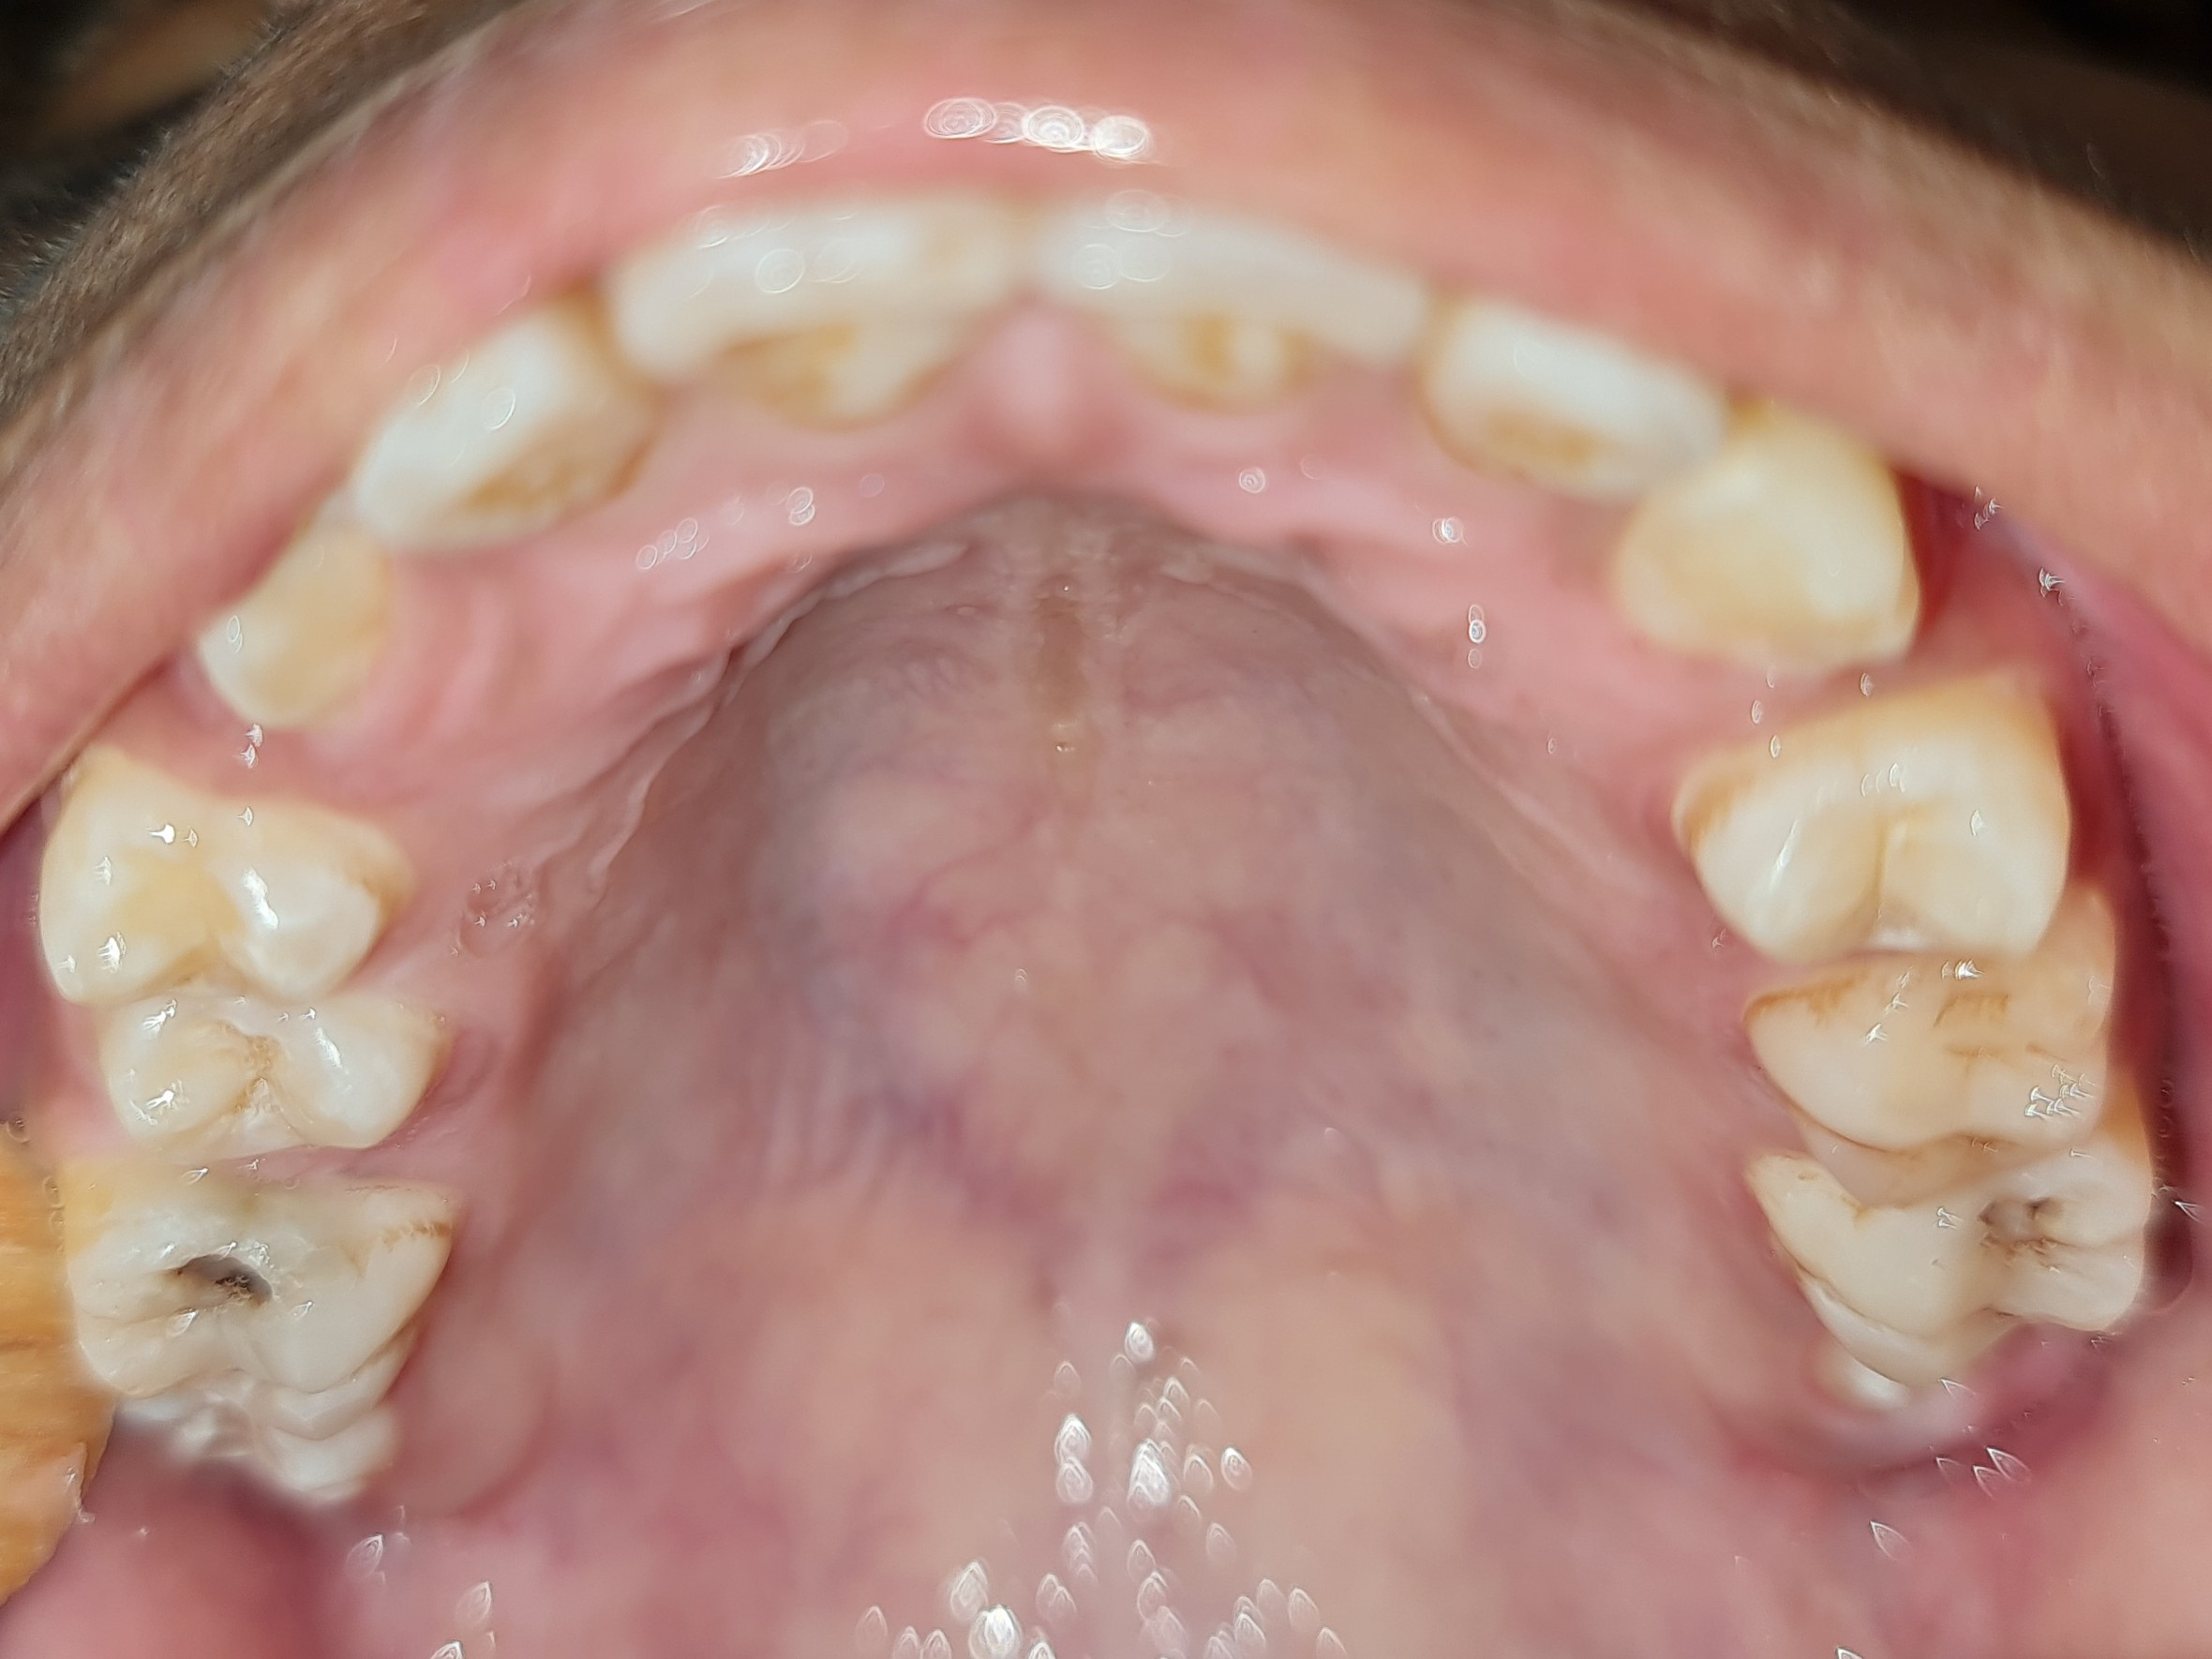D: (1752, 1091, 2148, 1378), (57, 1154, 450, 1443)
